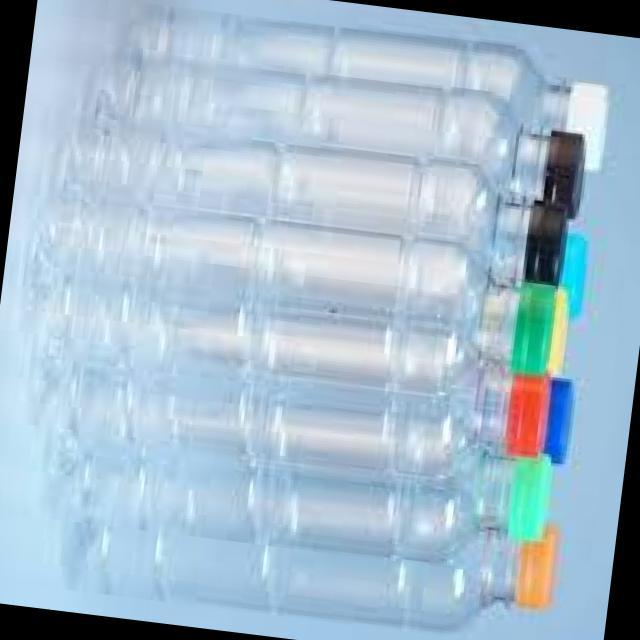good: (59, 390, 566, 617), (31, 193, 580, 399), (31, 292, 556, 489), (97, 0, 626, 194), (44, 101, 583, 286), (92, 39, 602, 229), (80, 466, 576, 640)
